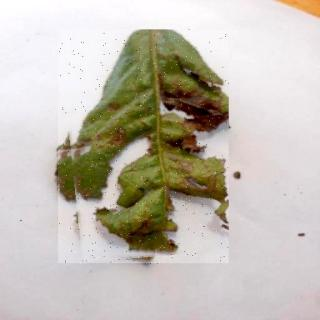Algal Leaf: (59, 31, 230, 265)
